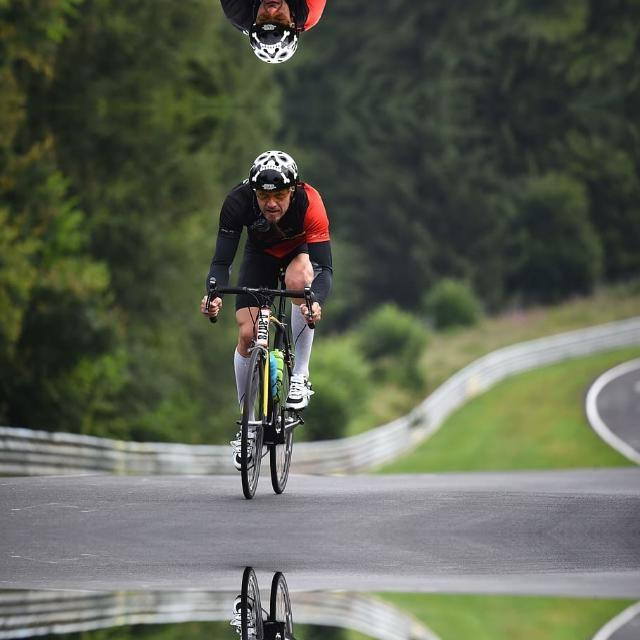obstacle: (180, 266, 328, 506), (180, 560, 327, 640)
